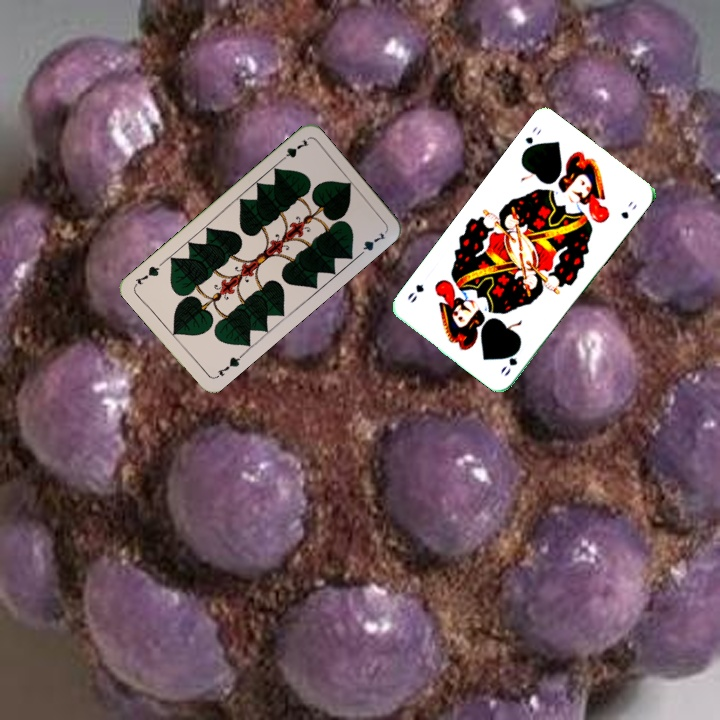G7: (275, 134, 311, 165), (211, 351, 245, 381)
GO: (496, 341, 524, 379), (518, 122, 544, 157)
